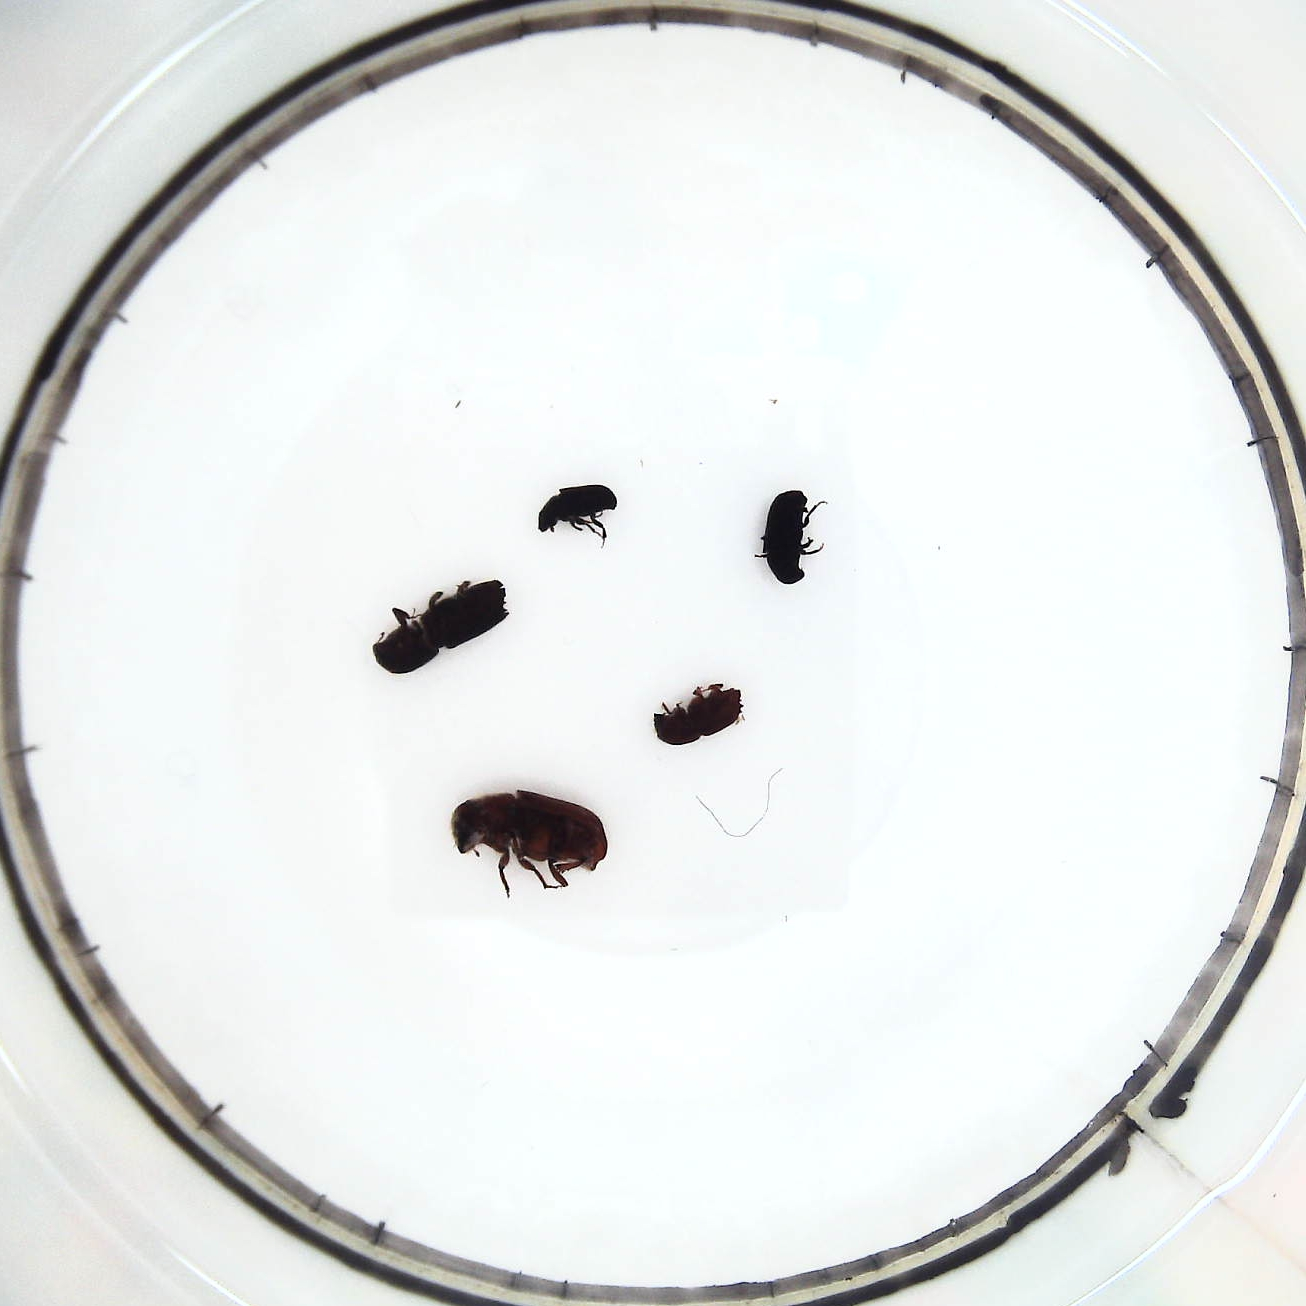Boerner: (367, 573, 519, 676)
Leconte: (448, 791, 614, 895)
armandi: (758, 486, 826, 588)
coleoptera: (536, 483, 620, 549)
linnaeus: (649, 685, 750, 753)
